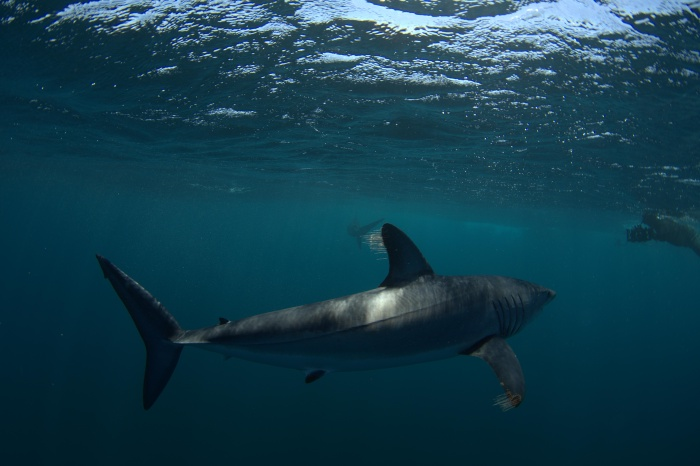Mako: (82, 218, 576, 426)
